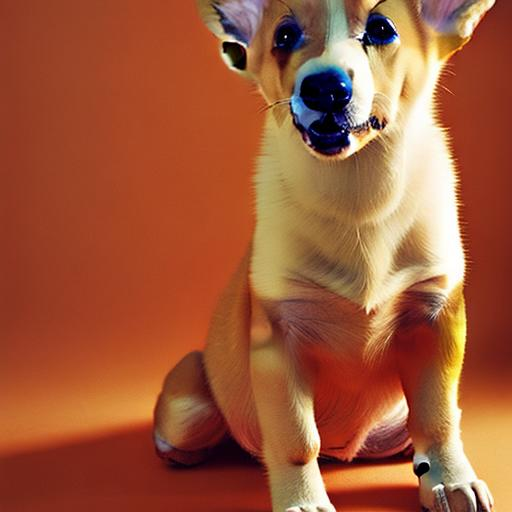eye: (269, 14, 314, 54), (361, 12, 404, 50)
